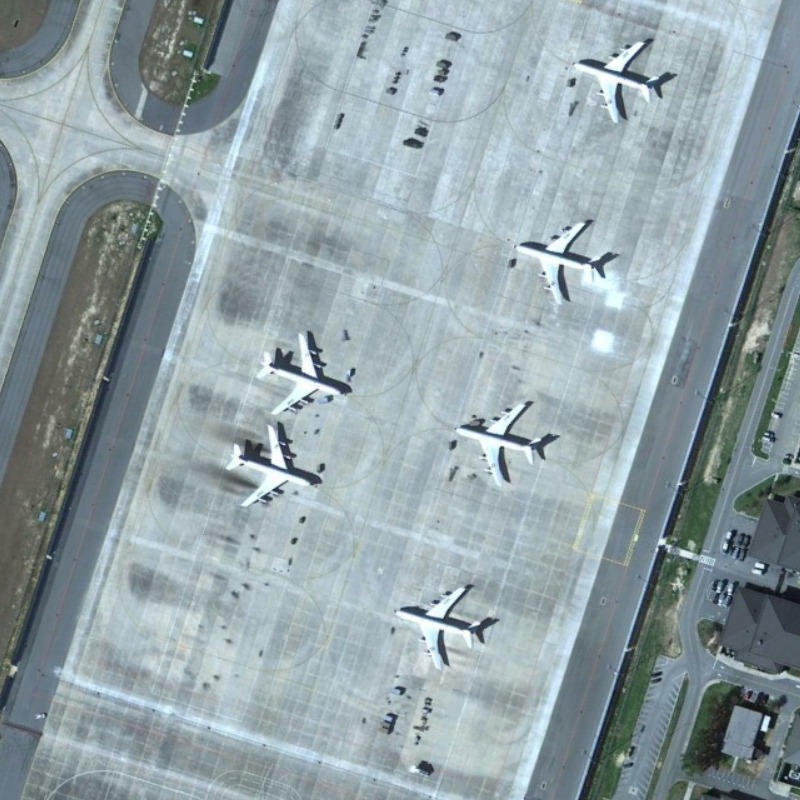A11: (508, 218, 606, 311), (219, 421, 317, 510), (568, 37, 662, 127), (452, 400, 546, 490), (393, 584, 485, 675), (251, 330, 345, 417)
